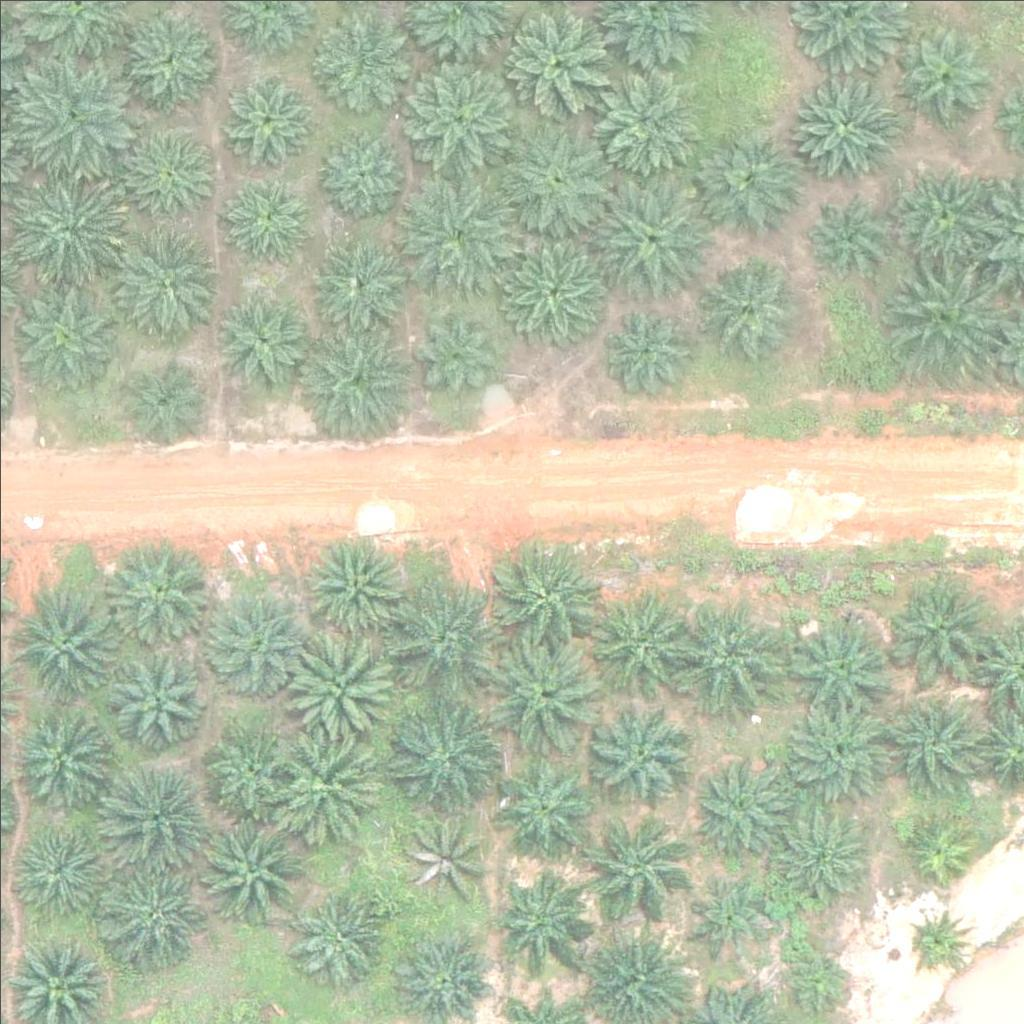Kelapa_Sawit: (399, 56, 512, 170), (98, 536, 211, 650), (11, 584, 124, 698), (399, 172, 512, 285), (501, 2, 614, 115), (501, 231, 614, 344), (587, 61, 700, 174), (17, 51, 130, 164), (116, 224, 229, 337), (99, 758, 212, 871), (487, 537, 600, 650), (782, 696, 895, 809), (785, 608, 898, 721), (883, 569, 996, 682), (503, 124, 615, 238), (12, 278, 124, 392), (300, 329, 412, 443), (576, 815, 688, 929), (678, 598, 790, 712), (590, 182, 702, 295), (785, 66, 897, 179), (888, 253, 1000, 366), (13, 164, 125, 277), (195, 814, 307, 927), (272, 731, 384, 844), (285, 633, 397, 746), (383, 578, 495, 691), (387, 699, 499, 812), (489, 637, 601, 750), (588, 580, 700, 693), (596, 300, 696, 401), (701, 127, 801, 228), (894, 167, 994, 268), (115, 6, 215, 107), (214, 69, 314, 170), (310, 230, 410, 331), (106, 640, 206, 741), (205, 596, 305, 697), (291, 885, 391, 986), (495, 865, 595, 966), (593, 703, 693, 804), (693, 752, 793, 853), (885, 686, 985, 787), (697, 251, 797, 351), (893, 26, 993, 126), (218, 172, 318, 272), (211, 296, 311, 396), (5, 816, 105, 916), (9, 700, 109, 800), (103, 856, 203, 956), (306, 534, 406, 634), (495, 762, 595, 862), (770, 805, 870, 905), (119, 358, 207, 446), (126, 130, 214, 218), (207, 725, 295, 813), (682, 871, 770, 959), (408, 310, 495, 398), (801, 189, 888, 277), (313, 125, 400, 213), (398, 812, 485, 900), (778, 945, 853, 1020), (902, 807, 977, 882), (905, 906, 968, 969)
